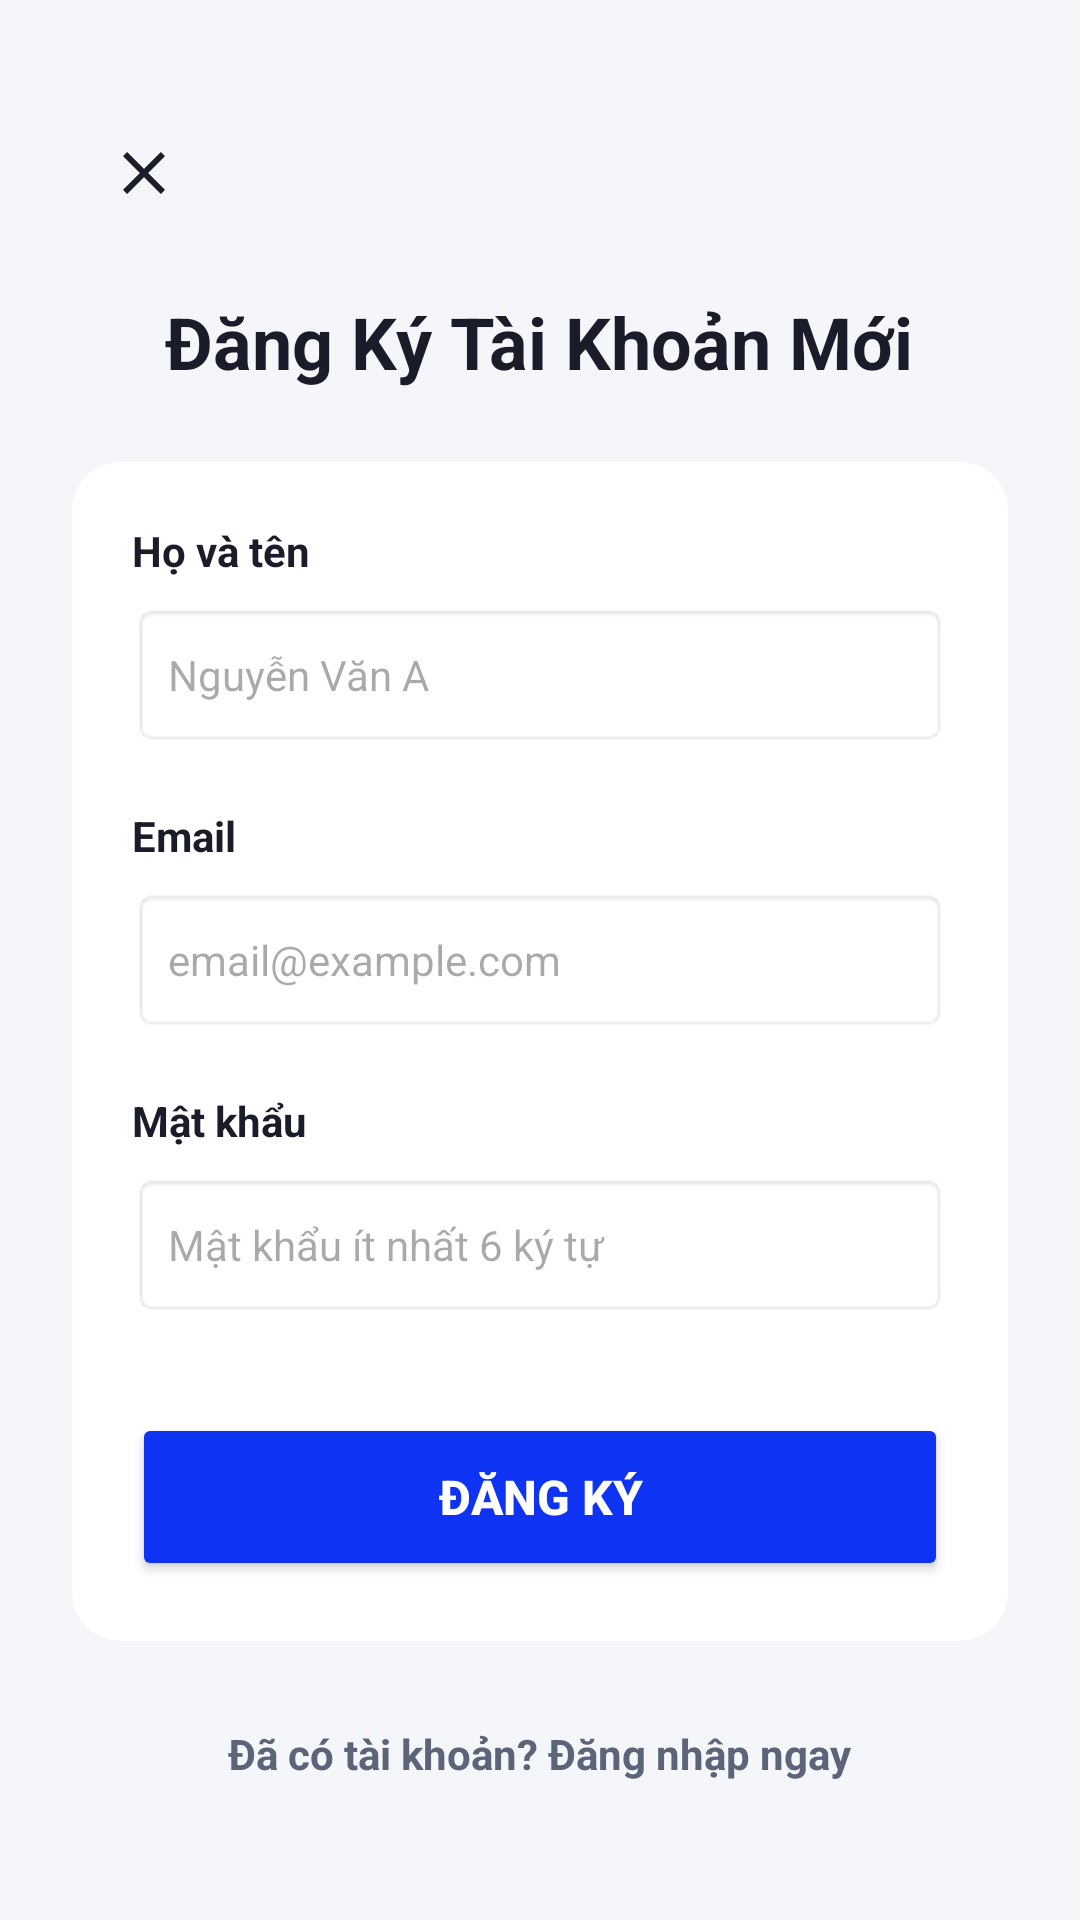

Screen size 1080 x 1920. Icon name, then its box in pixels as {"x1": x1, "y1": y1, "x2": x2, "y2": y2}:
Close: {"x1": 123, "y1": 152, "x2": 165, "y2": 194}
